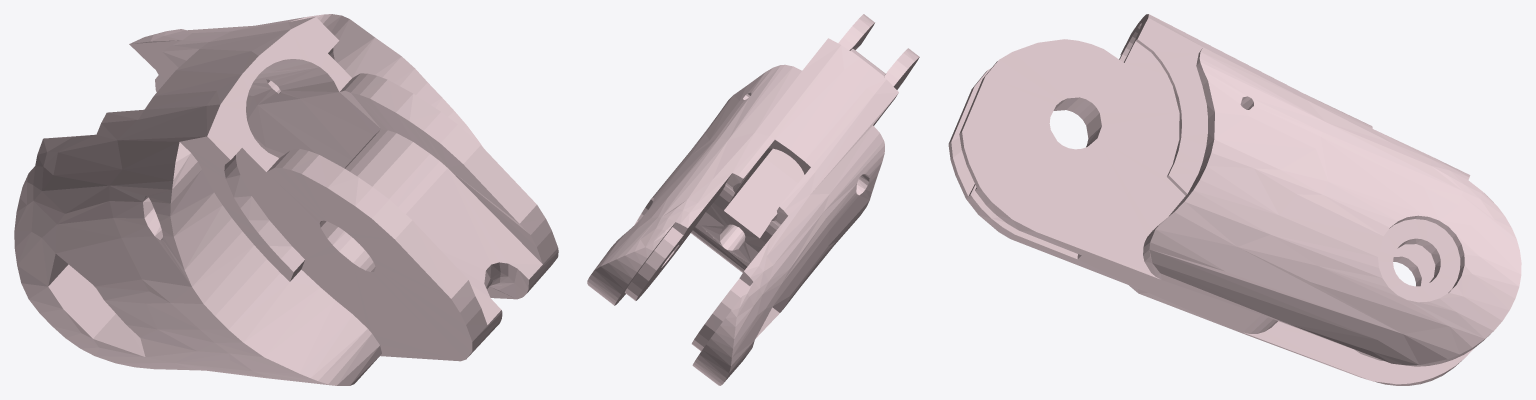
The model's file is i02_rightHand_ringFingerMid_visual.obj.light.glb.
The picture shows the model from 3 angles, left to right: view 1: azimuth 30°, elevation 25°; view 2: azimuth 150°, elevation 25°; view 3: azimuth 270°, elevation 25°; orthographic projection. The views are drawn at different scales.
Bounding box in the file's own units: 0.1926 × 0.2688 × 0.3907.
